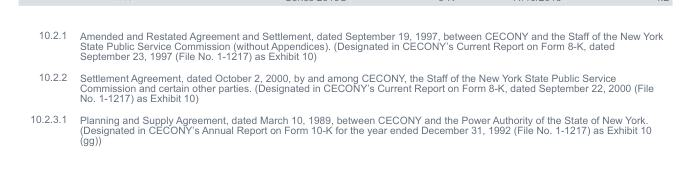table: (29, 28, 662, 145)
table column: (72, 28, 662, 145), (29, 28, 72, 145)
table row: (29, 66, 662, 108), (29, 28, 662, 66), (29, 108, 662, 145)
